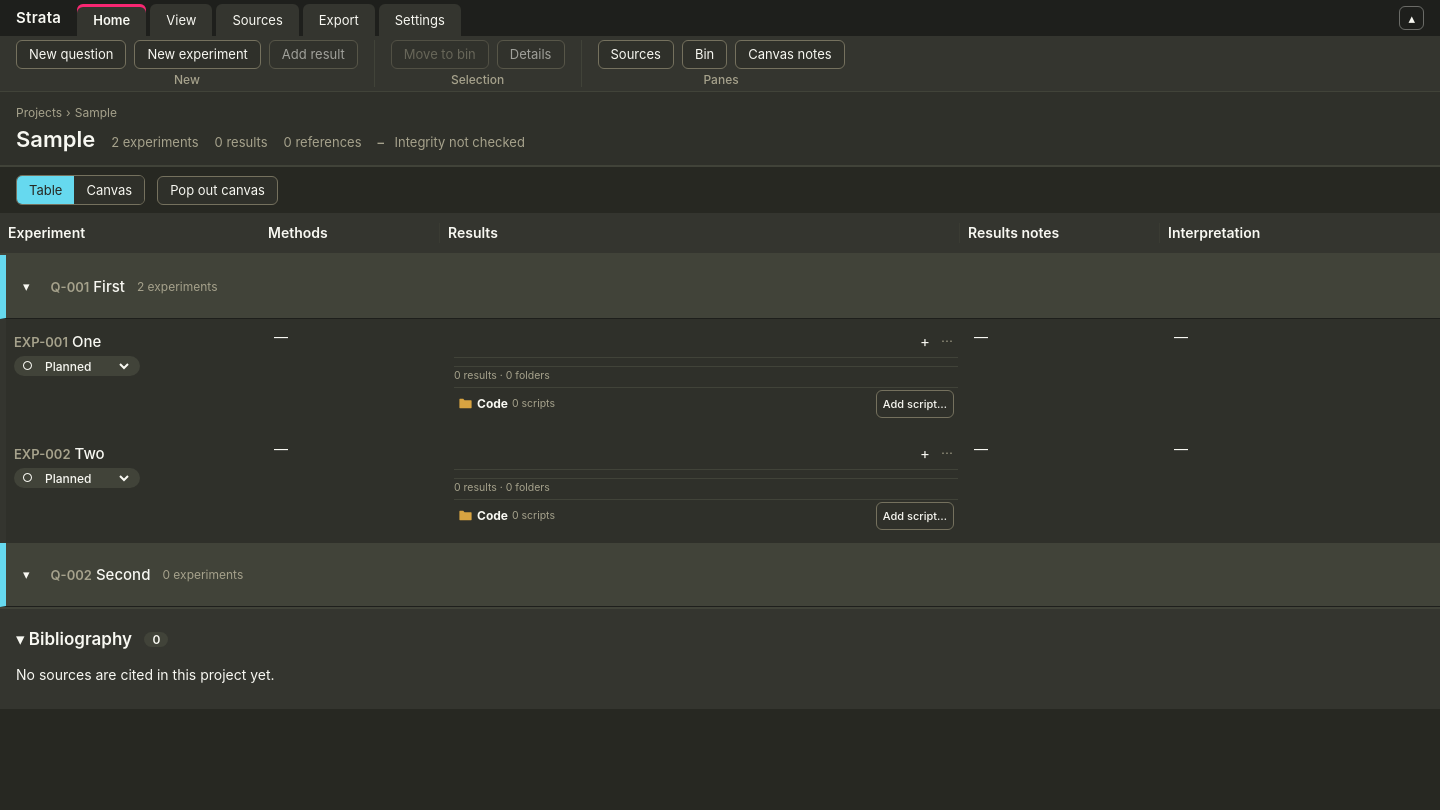
the workspace (S6-T01) › collapses to its tabs, shows a tab's commands over the table when one is chosen, and expands again
Click the button with class "ribbon__collapse": (1412, 18) [1400, 6, 1424, 30]
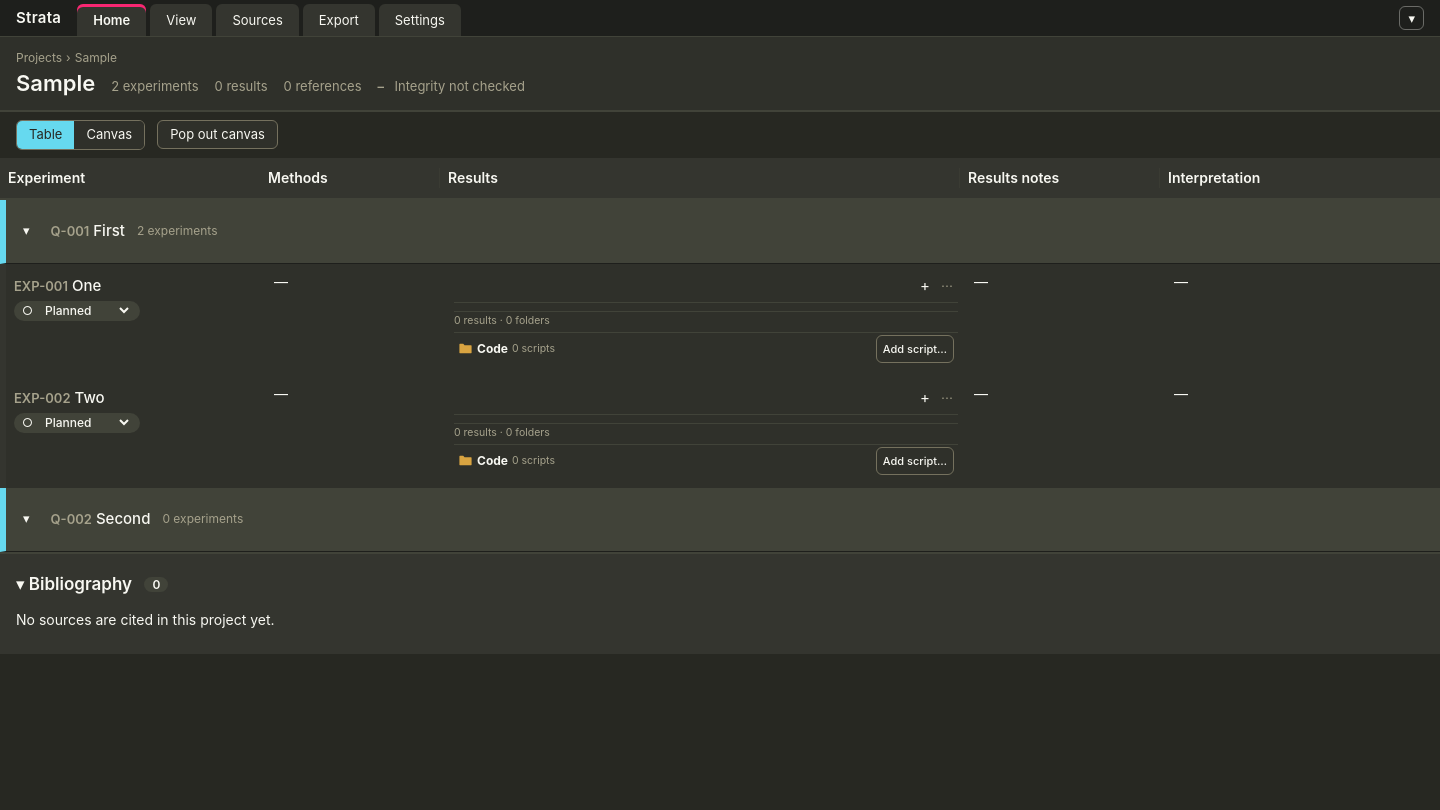
Click the tab "View": (181, 20) [150, 4, 212, 36]
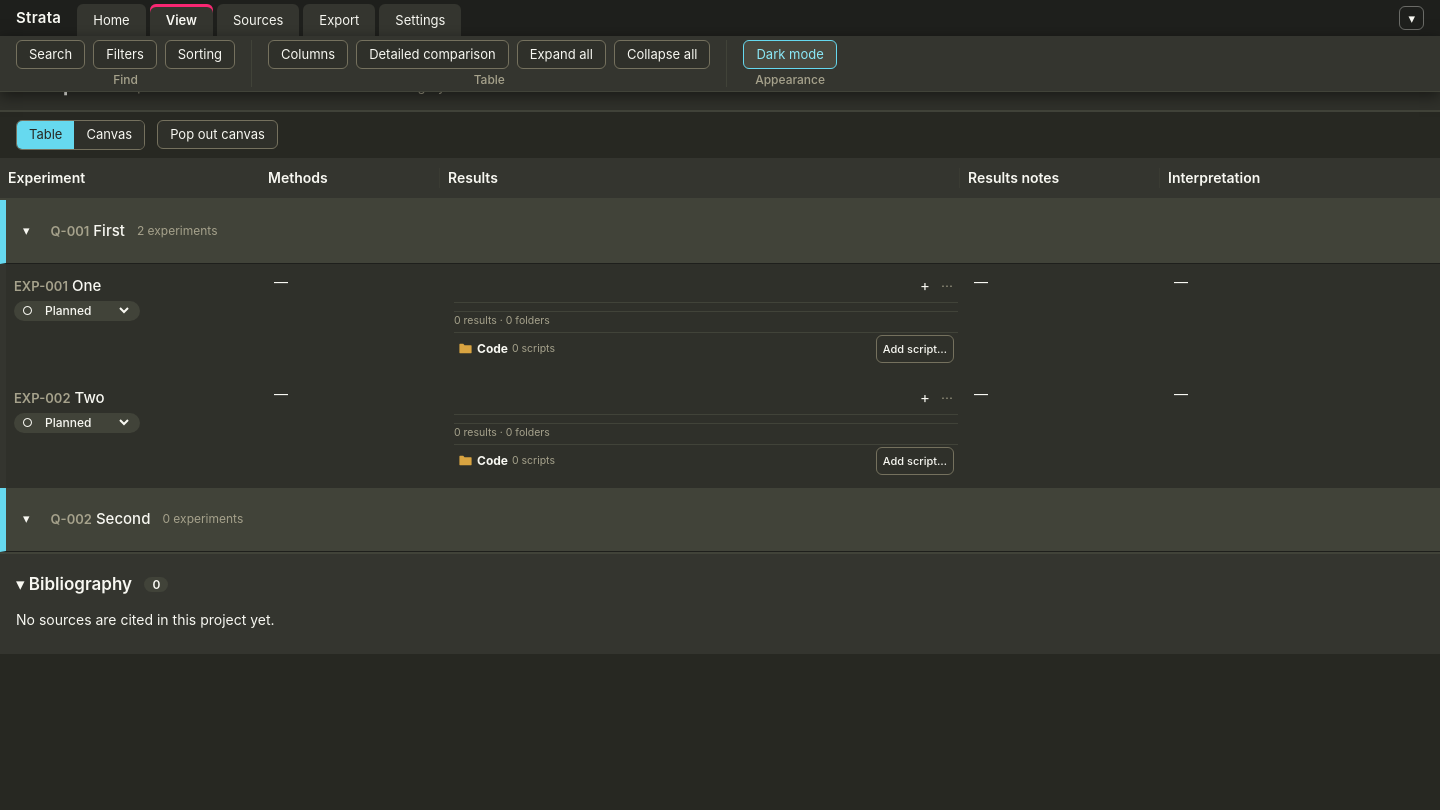
Expected: the panel with class "ribbon__commands--peek" is shown, [0, 36, 1439, 92]
Press Escape in the element with class "ribbon", box [0, 0, 1439, 37]
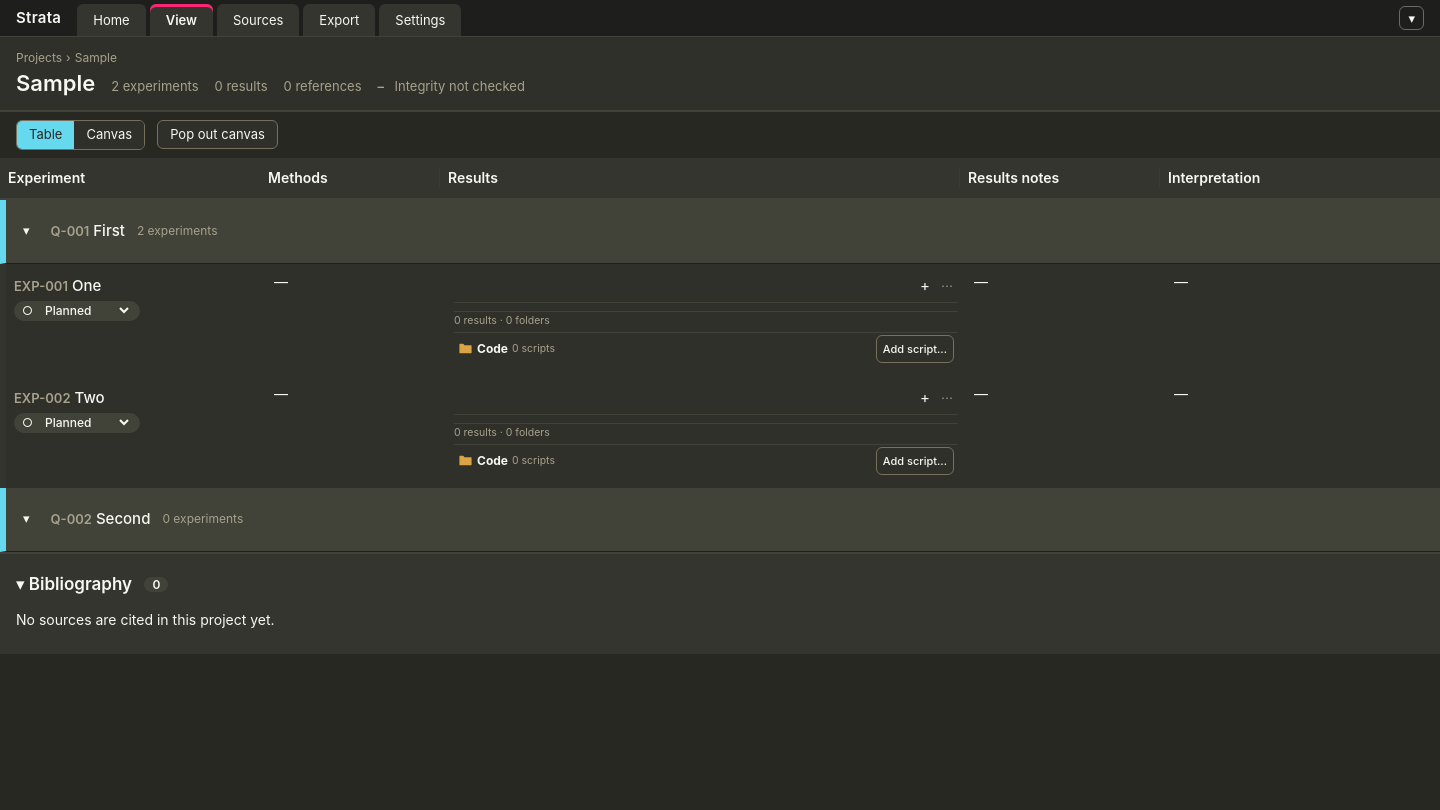
Click the button with class "ribbon__collapse": (1412, 18) [1400, 6, 1424, 30]
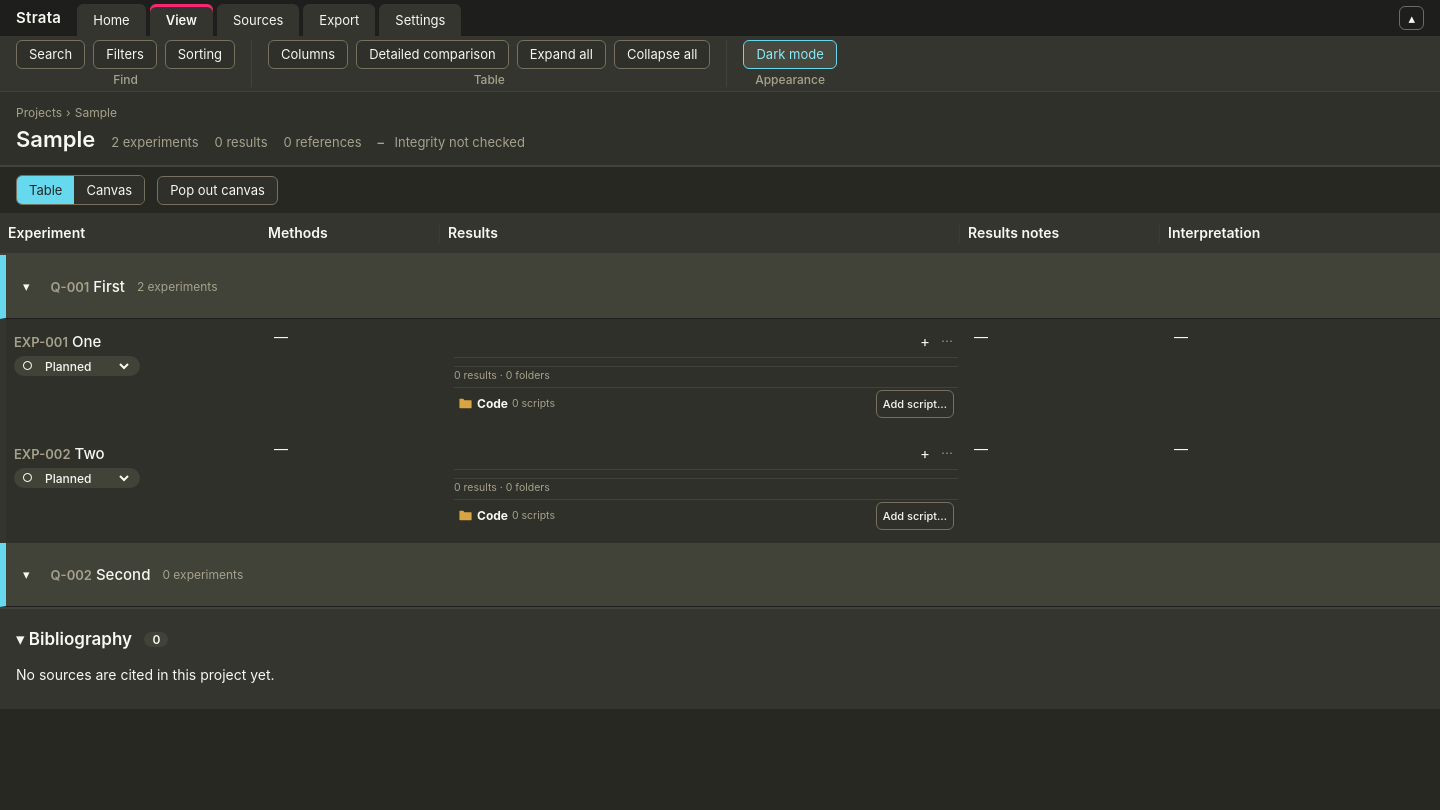
Expected: the element named "Ribbon" is shown, [16, 40, 837, 87]
